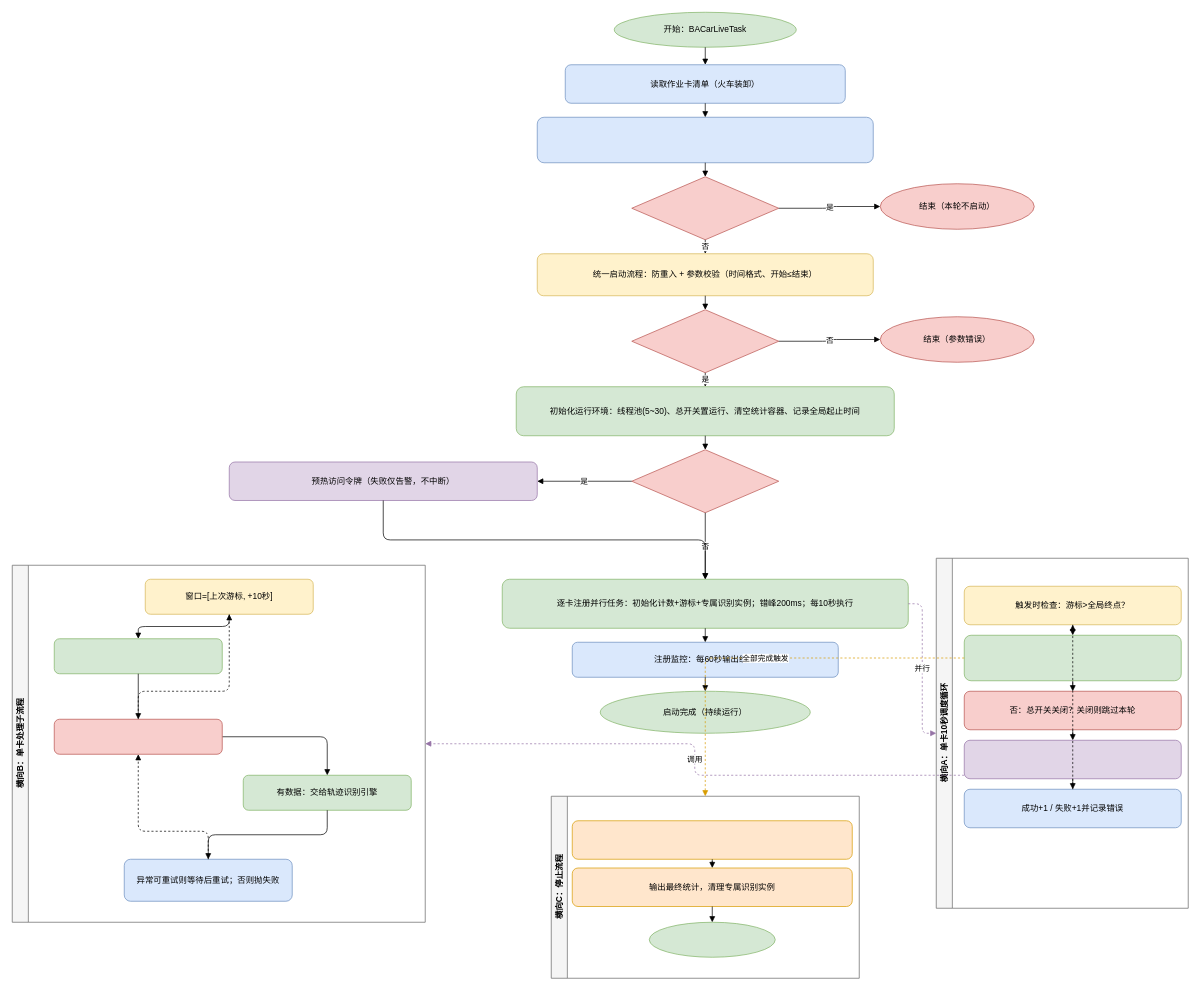
Image size: 1201x991. Some labels were removed from this diagram. The centre of each missing label's shape, as x and y in pixels:
"关闭总开关与线程池，等待收尾（最多30秒）" goes at pixel 712 839.
"卡清单为空？" goes at pixel 705 208.
"定位源是zq？" goes at pixel 705 481.
"执行单卡处理（含最多2次重试）" goes at pixel 1072 759.
"拉取位置+UWB数据" goes at pixel 138 656.
"无数据：推进游标并返回" goes at pixel 138 736.
"是：标记该卡完成；若全部完成，2秒后触发停止" goes at pixel 1072 658.
"校验通过？" goes at pixel 705 341.
"结束" goes at pixel 712 939.
"计算本轮时间范围：起点=当前-1分钟；终点=今天/明天凌晨3点" goes at pixel 705 140.
